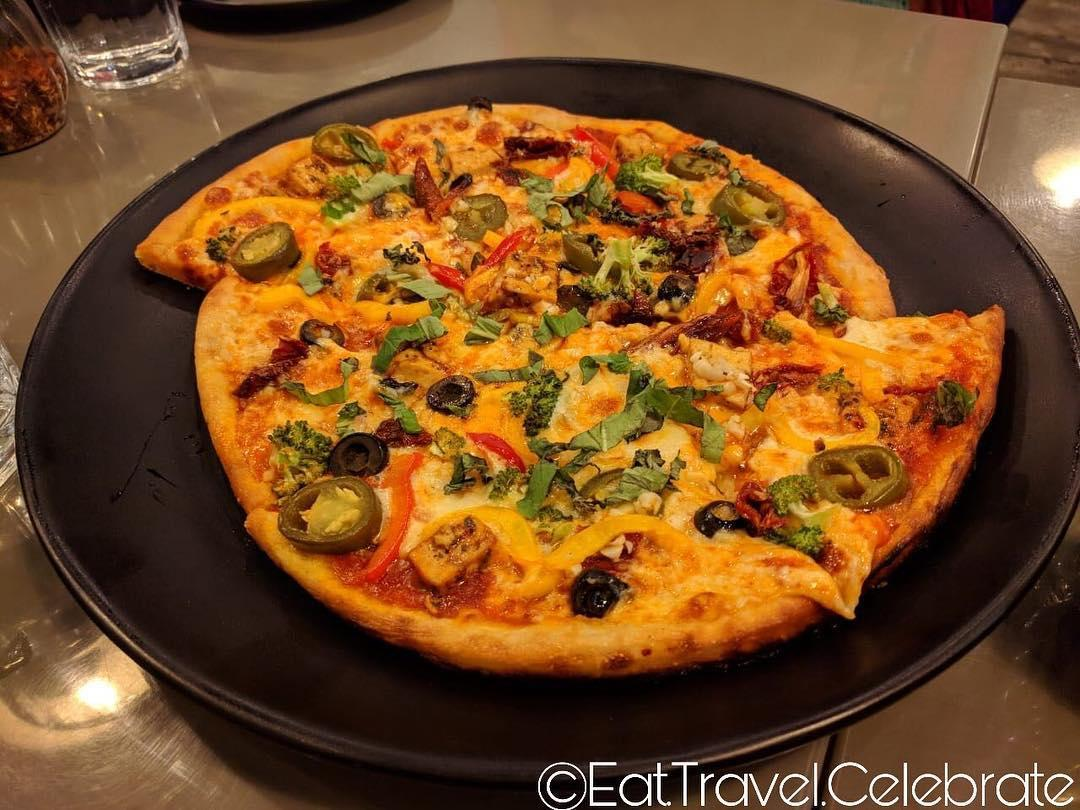Broccoli: (592, 236, 657, 302), (771, 475, 842, 523), (510, 375, 560, 427), (934, 380, 979, 429), (621, 156, 676, 195), (779, 527, 826, 555)
Olives: (329, 430, 391, 475), (570, 569, 625, 619), (694, 494, 748, 531), (426, 374, 474, 410), (464, 96, 495, 117), (448, 171, 474, 189)
Peppers: (547, 515, 694, 573), (274, 478, 380, 546), (369, 453, 422, 587), (807, 446, 908, 510), (429, 508, 539, 565), (255, 290, 431, 324), (233, 222, 296, 281), (712, 176, 782, 228), (575, 121, 622, 180), (313, 124, 380, 165), (483, 225, 537, 271), (195, 196, 323, 215), (773, 423, 881, 445), (468, 432, 526, 469), (669, 149, 721, 179), (425, 261, 467, 293)
Pizza: (144, 111, 1024, 655)
